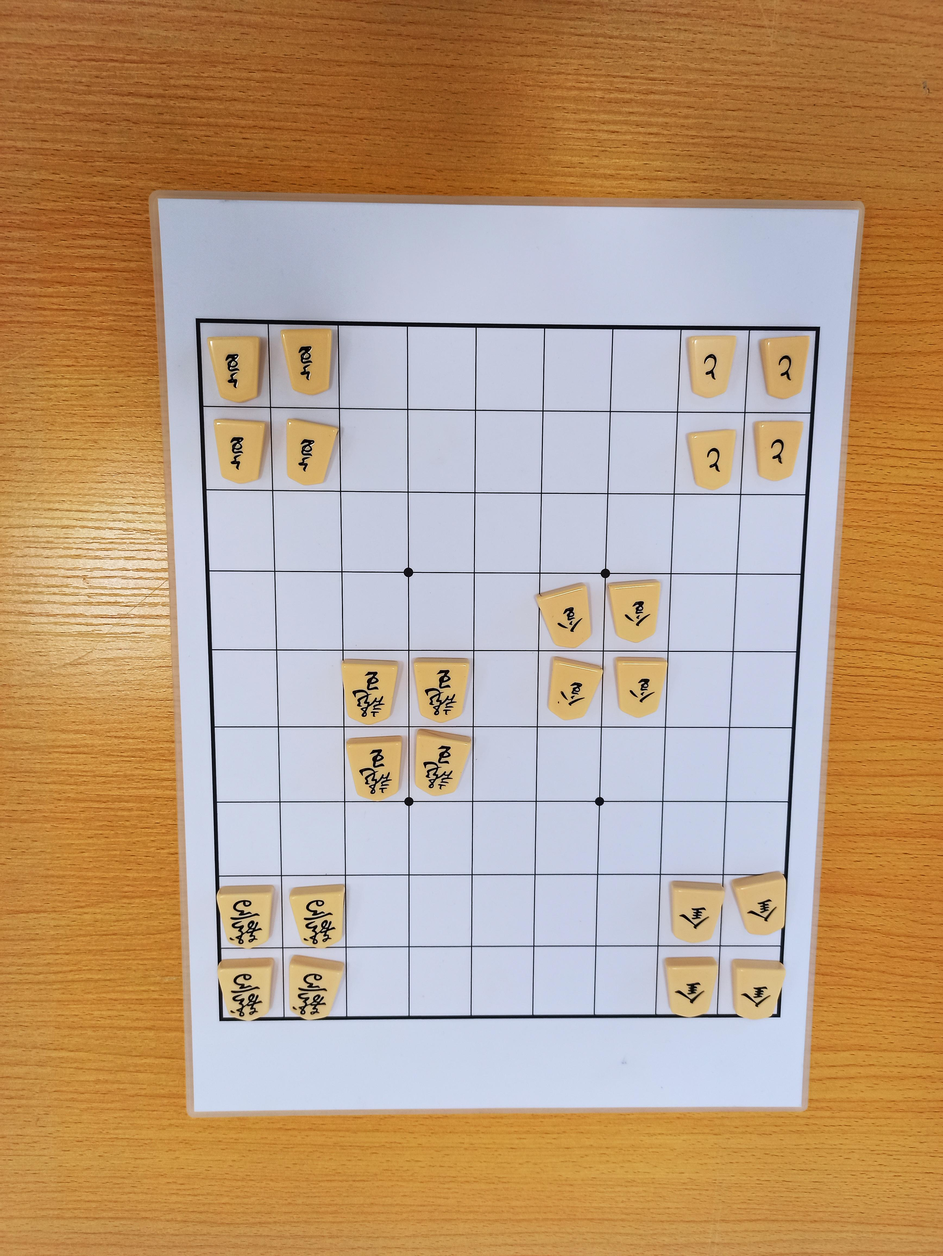board: (200, 322, 817, 1018)
